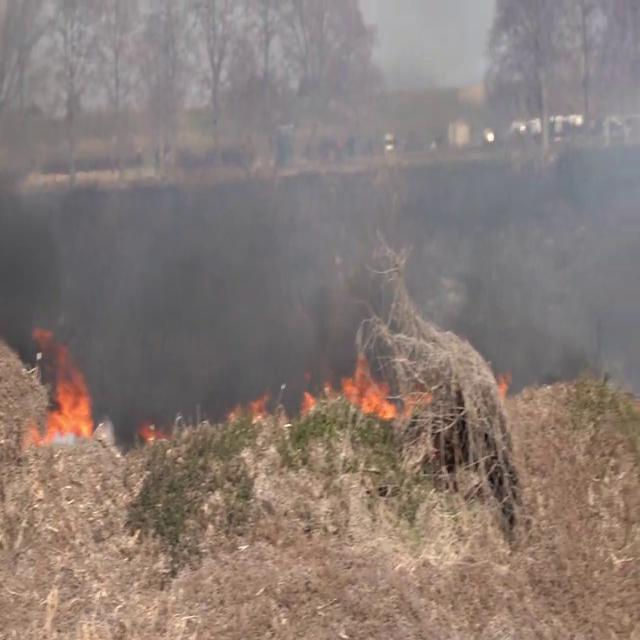Fire: (35, 348, 98, 442), (336, 350, 402, 424)
Smoke: (0, 1, 639, 452)
